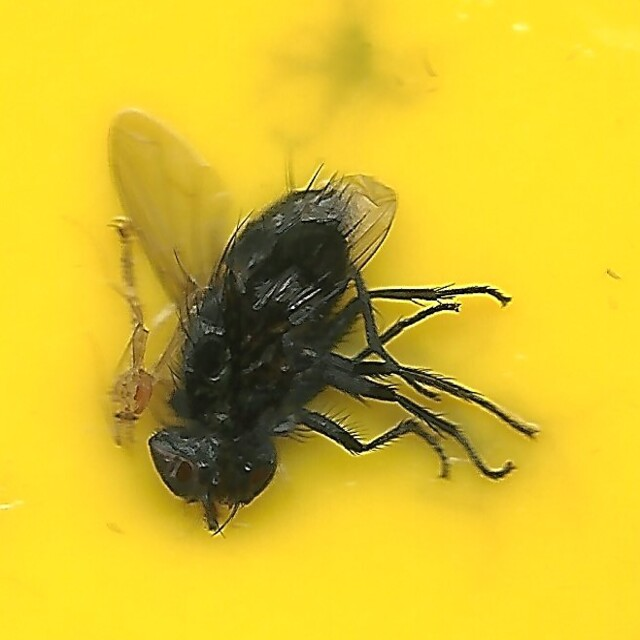Brachycera: (102, 105, 543, 535)
Nematocera: (97, 212, 163, 455)
